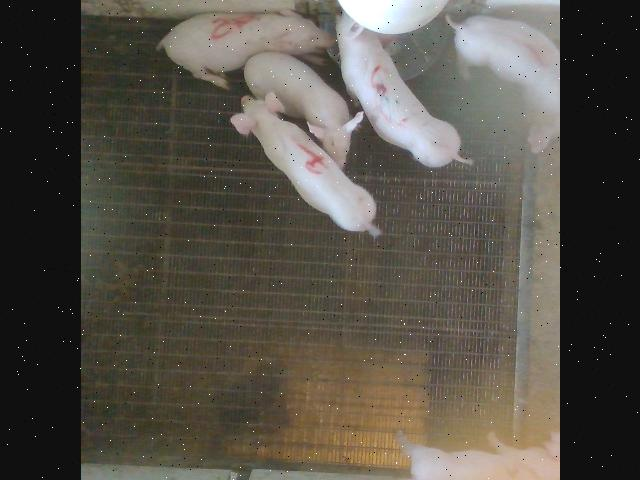pig-1: (445, 15, 559, 110)
pig-2: (396, 432, 559, 480)
pig-3: (336, 15, 468, 166)
pig-4: (230, 92, 380, 236)
pig-5: (158, 10, 334, 88)
